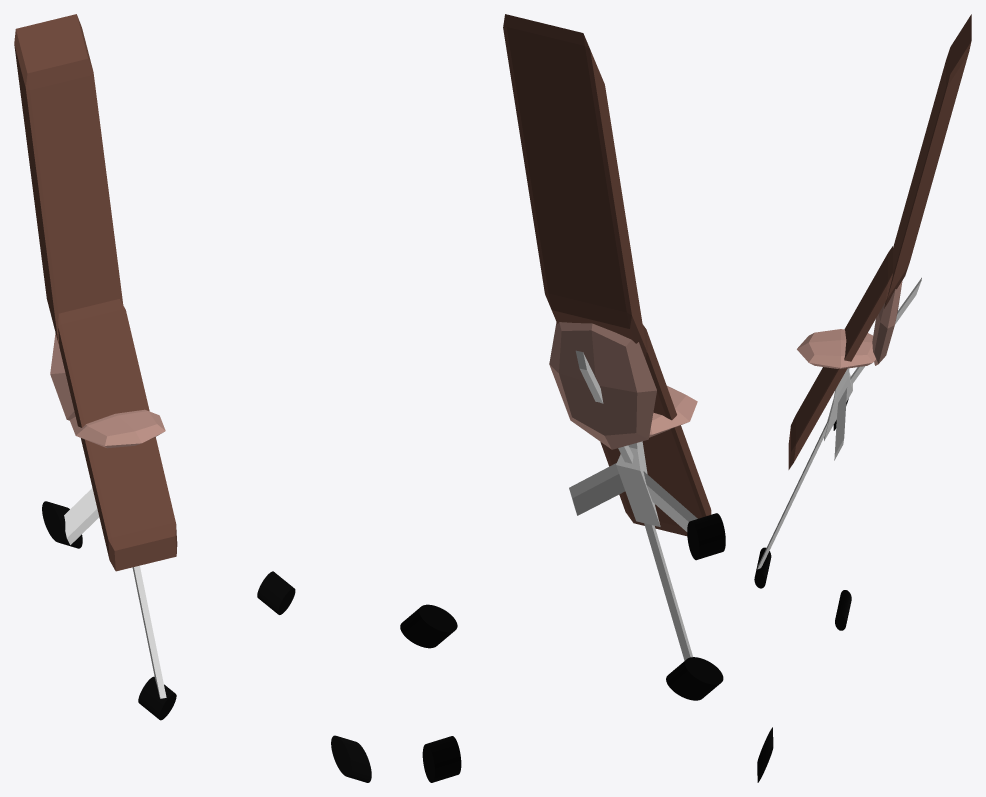
File: SpinningChair.fbx
3 renders of one model, left to right at view 1: azimuth 30°, elevation 25°; view 2: azimuth 150°, elevation 25°; view 3: azimuth 270°, elevation 25°, orthographic. The views are drawn at different scales.
Visible parts, largest first — view 1: SpinningChairSeat, SpinningChairWheels, SpinningChairPillow, SpinningChairLegs; view 2: SpinningChairSeat, SpinningChairPillow, SpinningChairLegs, SpinningChairWheels; view 3: SpinningChairSeat, SpinningChairPillow, SpinningChairLegs, SpinningChairWheels.
Boxes of the visible parts, bbox=[...] form: SpinningChairSeat: bbox=[14, 14, 177, 571]; SpinningChairWheels: bbox=[42, 501, 371, 782]; SpinningChairPillow: bbox=[50, 332, 165, 448]; SpinningChairLegs: bbox=[64, 488, 171, 698]; SpinningChairSeat: bbox=[503, 14, 711, 535]; SpinningChairPillow: bbox=[549, 322, 697, 449]; SpinningChairLegs: bbox=[569, 350, 697, 660]; SpinningChairWheels: bbox=[400, 513, 725, 782]; SpinningChairSeat: bbox=[788, 14, 971, 469]; SpinningChairPillow: bbox=[797, 280, 902, 368]; SpinningChairLegs: bbox=[757, 277, 921, 569]; SpinningChairWheels: bbox=[754, 398, 851, 782].
Size of the model in its own units: 179 by 131 by 441.
